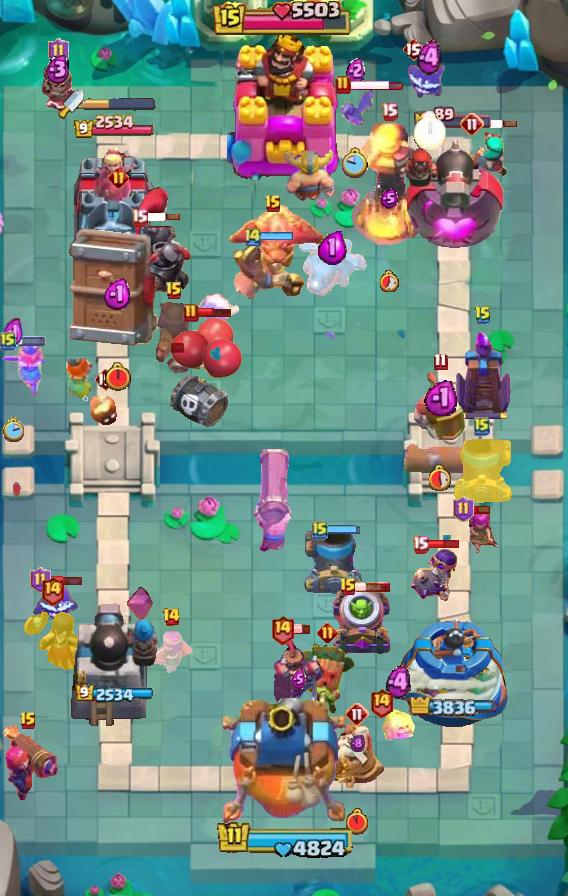archer: (146, 630, 196, 676), (459, 512, 501, 558)
bar: (349, 79, 404, 92), (48, 574, 83, 587), (355, 581, 391, 593), (426, 538, 461, 550), (197, 307, 233, 318), (326, 524, 361, 535), (8, 336, 46, 346), (261, 231, 295, 242), (145, 212, 181, 222), (482, 119, 518, 129), (471, 504, 491, 515), (292, 624, 311, 635)
bar-level: (369, 687, 394, 718), (270, 614, 295, 645), (40, 575, 65, 606), (345, 702, 369, 726), (460, 112, 484, 136), (30, 567, 51, 593), (453, 496, 474, 522), (48, 38, 69, 64), (94, 367, 116, 391), (402, 37, 424, 61), (317, 622, 338, 643), (108, 167, 129, 188), (243, 226, 263, 247), (162, 607, 181, 627), (19, 711, 37, 731), (339, 577, 357, 597), (474, 305, 492, 325), (165, 281, 183, 301), (264, 194, 282, 214), (412, 535, 429, 554), (131, 208, 148, 227), (381, 102, 398, 121), (312, 520, 328, 540), (474, 416, 490, 436), (0, 331, 16, 351), (183, 303, 199, 323), (335, 75, 351, 95), (433, 352, 448, 371)
bat-evolution: (337, 87, 373, 129)
bomber-evolution: (409, 548, 459, 602)
cannoneer-tower: (400, 132, 507, 256), (69, 599, 159, 731)
clock: (413, 111, 446, 150), (104, 362, 132, 392), (342, 147, 369, 178), (429, 464, 452, 491), (346, 808, 368, 835), (2, 417, 24, 442), (380, 270, 399, 292)
dagger-duchess-tower: (70, 142, 158, 256)
dagger-duchess-tower-bar: (84, 97, 156, 111)
dart-goblin: (298, 639, 356, 717)
electro-dragon: (297, 234, 367, 298)
electro-spirit: (407, 54, 451, 102), (31, 584, 79, 624)
elite-barbarian: (282, 150, 338, 204)
elixir: (424, 378, 457, 416), (318, 229, 347, 265), (103, 278, 133, 311), (417, 40, 442, 76), (386, 665, 411, 700), (45, 53, 71, 85), (3, 317, 24, 349), (346, 57, 365, 84), (380, 188, 398, 209), (291, 669, 306, 689), (350, 734, 365, 753)
evolution-symbol: (126, 586, 154, 622)
fire-spirit: (90, 396, 120, 428)
firecracker-evolution: (0, 722, 60, 802)
heal-spirit: (380, 708, 416, 746)
ice-spirit-evolution: (193, 292, 243, 330)
king-tower: (227, 29, 341, 181), (223, 698, 345, 826)
king-tower-bar: (213, 820, 356, 861), (213, 0, 355, 38)
little-prince: (38, 67, 78, 115)
mortar: (304, 530, 364, 594), (452, 439, 512, 503)
mortar-evolution: (329, 587, 393, 657)
musketeer: (155, 299, 193, 375)
night-witch: (21, 608, 83, 674)
queen-tower: (394, 614, 513, 731)
rascal-girl: (471, 129, 509, 179)
royal-recruit: (413, 372, 467, 442)
the-log: (402, 441, 504, 481)
tower-bar: (73, 114, 155, 140), (413, 106, 493, 131), (409, 697, 498, 716), (75, 684, 154, 704)
valkyrie: (0, 344, 48, 398), (61, 353, 99, 405)
